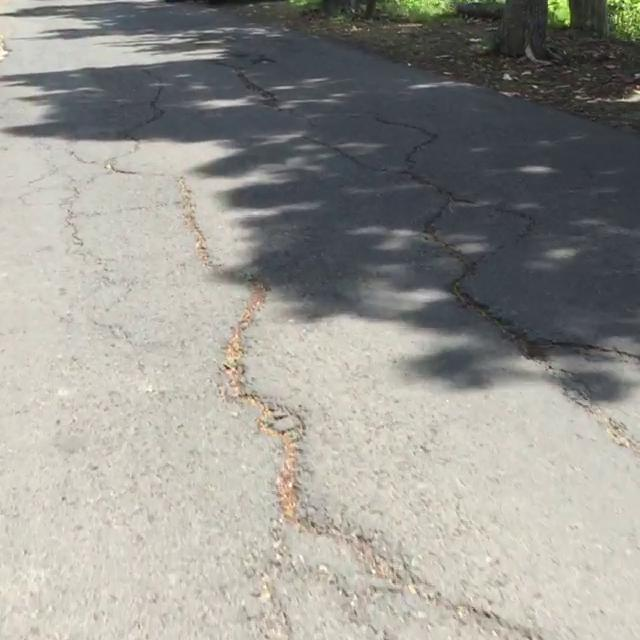retak_memanjang: (157, 180, 369, 596), (386, 116, 550, 376), (512, 345, 640, 640), (217, 43, 296, 124)
